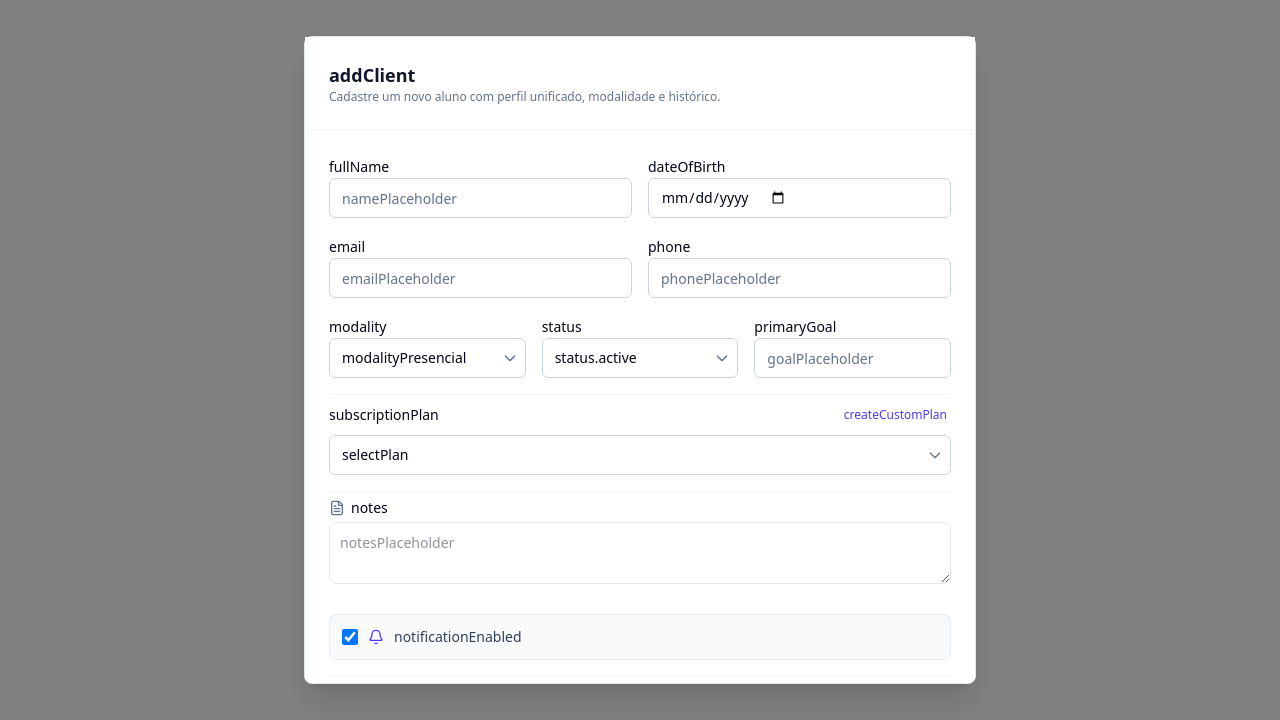
Scenario: AddClientModal › shows custom plan fields when toggle is clicked
This screenshot has width=1280, height=720.
Click the button "createCustomPlan".
click(895, 415)  # box [840,403,951,427]
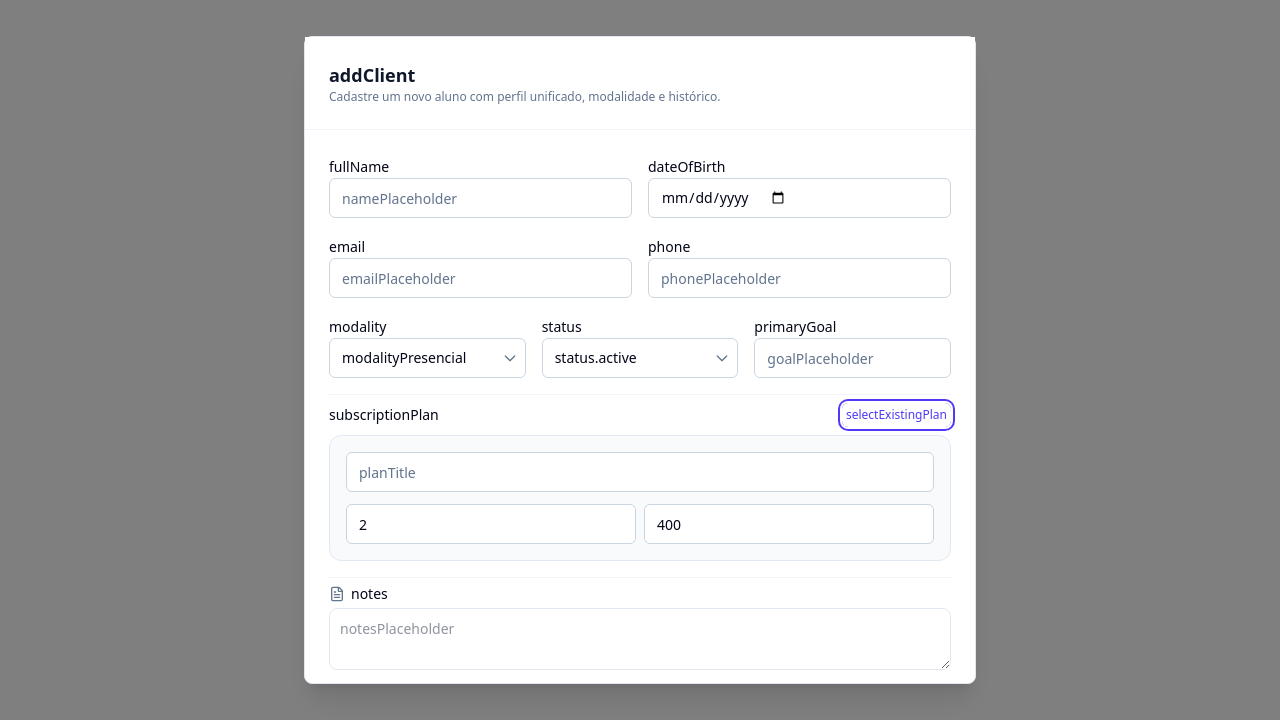
Result: the field with placeholder "planTitle" is shown at [346,452,934,492]
